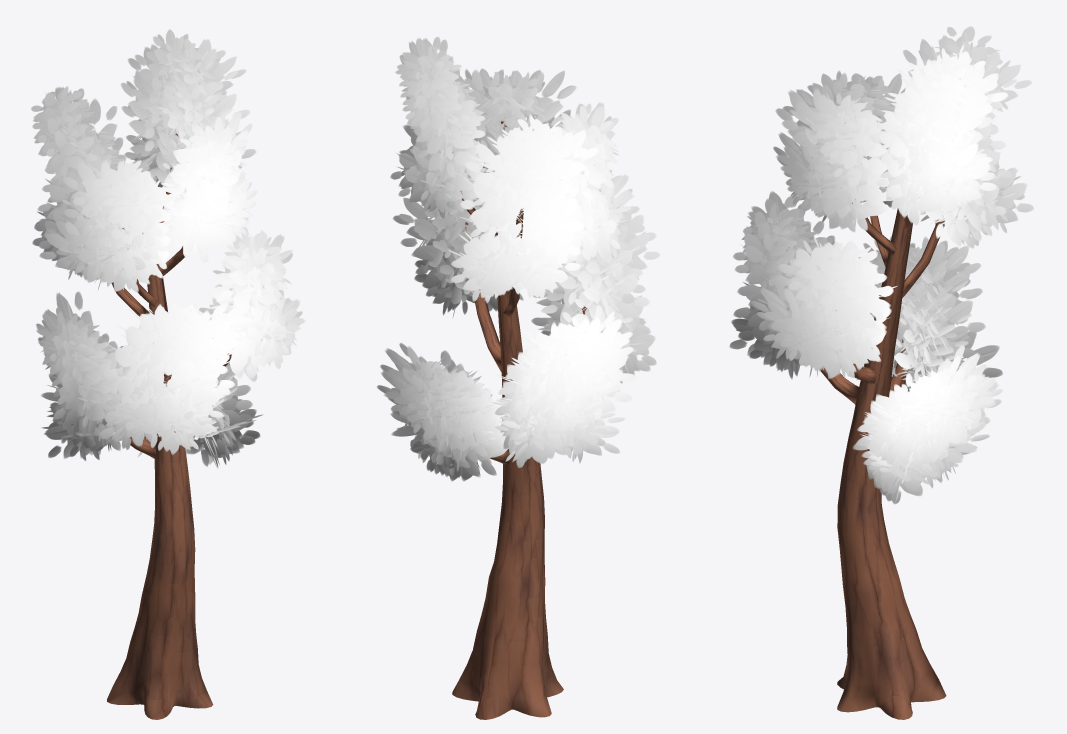
File: tree-3.glb
3 views of the same model, side by side, from view 1: azimuth 30°, elevation 25°; view 2: azimuth 150°, elevation 25°; view 3: azimuth 270°, elevation 25° (orthographic). The views are drawn at different scales.
Parts seen in each view (by area): view 1: tree_025; view 2: tree_025; view 3: tree_025.
Part boxes in pixels (x1,y1,x2,y2): tree_025: (31,29,305,719); tree_025: (377,37,660,719); tree_025: (729,26,1033,719).
Bounding box in the file's own units: 4.06 × 9.43 × 4.24.
2 materials, 2 textured.
